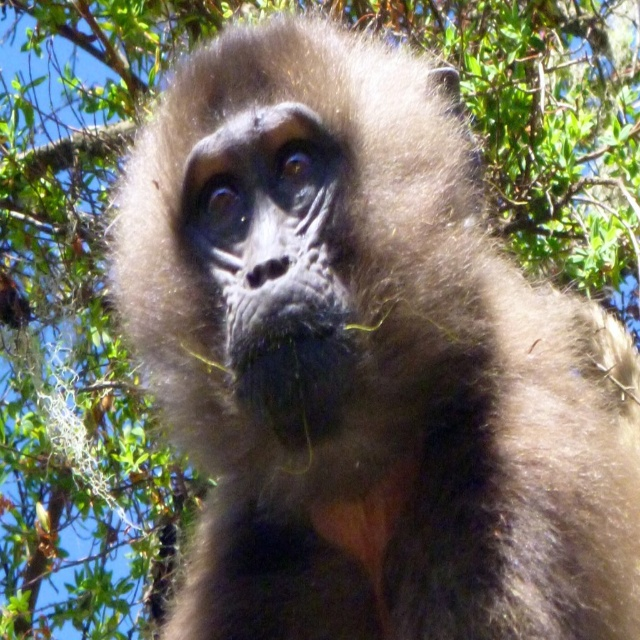Monkey: (87, 3, 640, 640)
